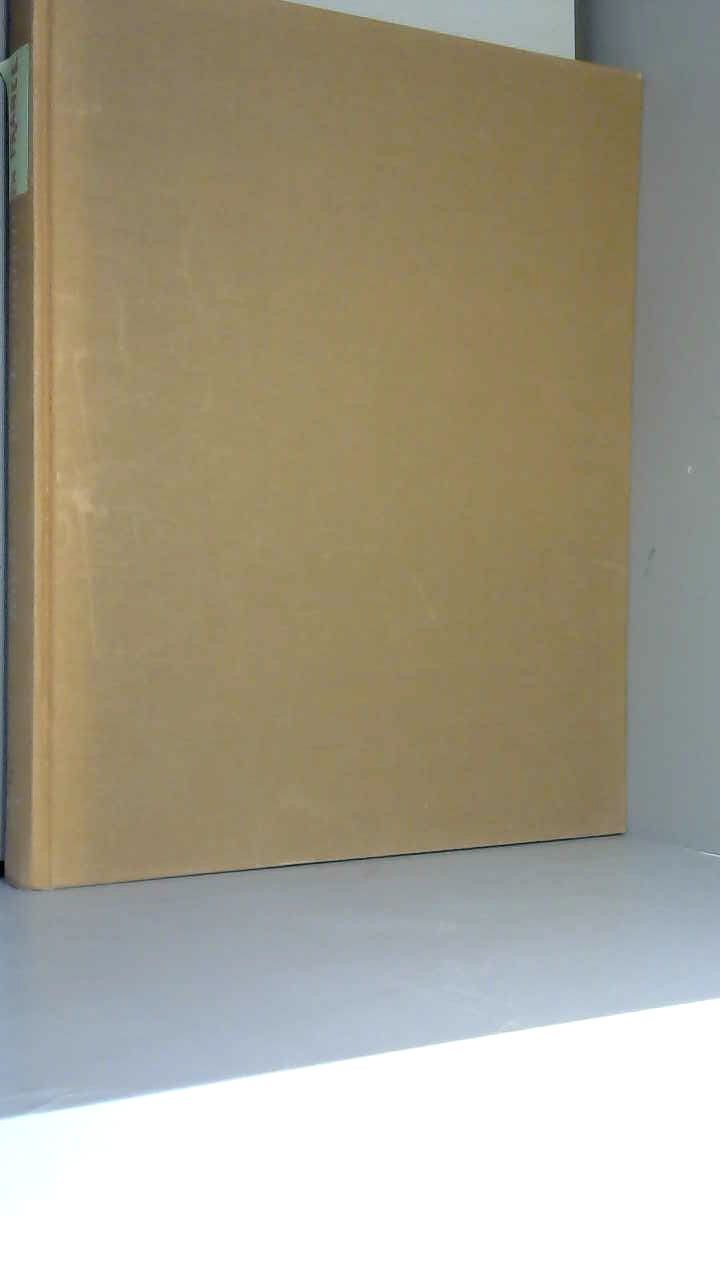book: (0, 0, 677, 914)
